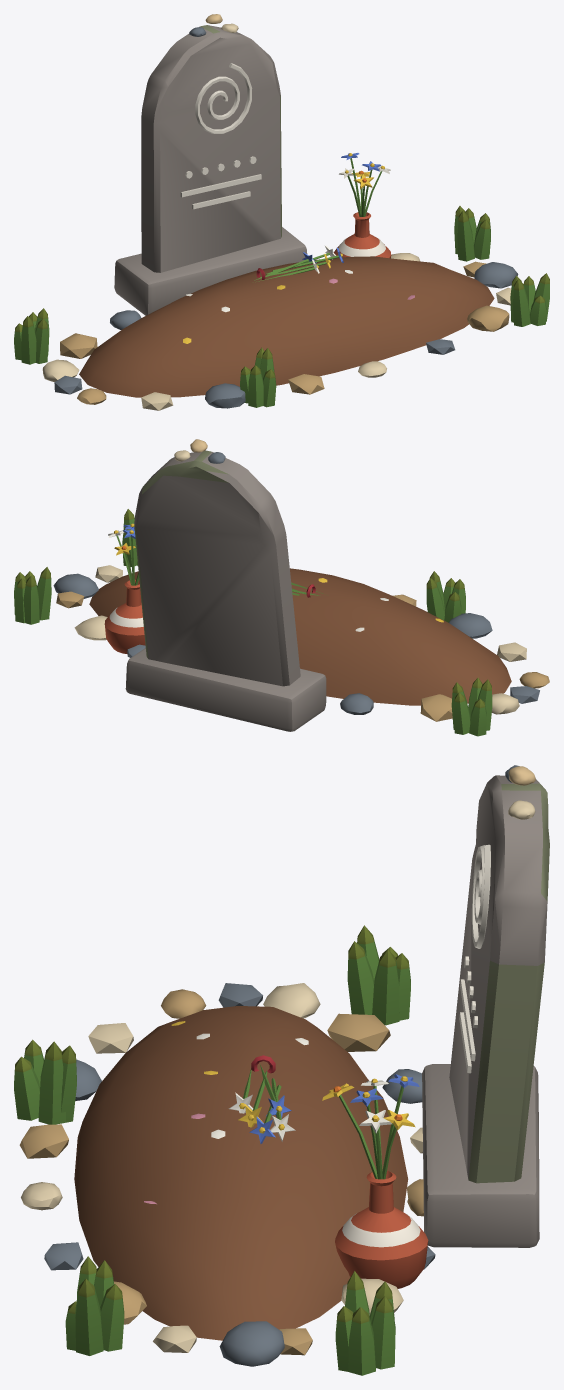
The model's file is deco_grave_stone.fbx.
The picture shows the model from 3 angles, top to bottom: view 1: azimuth 30°, elevation 25°; view 2: azimuth 150°, elevation 25°; view 3: azimuth 270°, elevation 25°; orthographic projection. The views are drawn at different scales.
Visible parts, largest first — view 1: Grave_Stone_Mound, Grave_Stone_Stone, Grave_Stone_Flowers, Grave_Stone_Glyph; view 2: Grave_Stone_Stone, Grave_Stone_Mound, Grave_Stone_Flowers; view 3: Grave_Stone_Mound, Grave_Stone_Stone, Grave_Stone_Flowers, Grave_Stone_Glyph.
Part boxes in pixels (x1=…): Grave_Stone_Mound: x1=14, y1=206, x2=549, y2=410; Grave_Stone_Stone: x1=114, y1=14, x2=307, y2=315; Grave_Stone_Flowers: x1=183, y1=153, x2=414, y2=343; Grave_Stone_Glyph: x1=180, y1=63, x2=261, y2=209; Grave_Stone_Stone: x1=125, y1=439, x2=326, y2=731; Grave_Stone_Mound: x1=14, y1=509, x2=549, y2=736; Grave_Stone_Flowers: x1=104, y1=523, x2=443, y2=654; Grave_Stone_Mound: x1=14, y1=925, x2=435, y2=1375; Grave_Stone_Stone: x1=422, y1=765, x2=549, y2=1247; Grave_Stone_Flowers: x1=144, y1=1021, x2=428, y2=1288; Grave_Stone_Glyph: x1=459, y1=844, x2=490, y2=1073.
Size of the model in its own units: 283 by 149 by 168.
